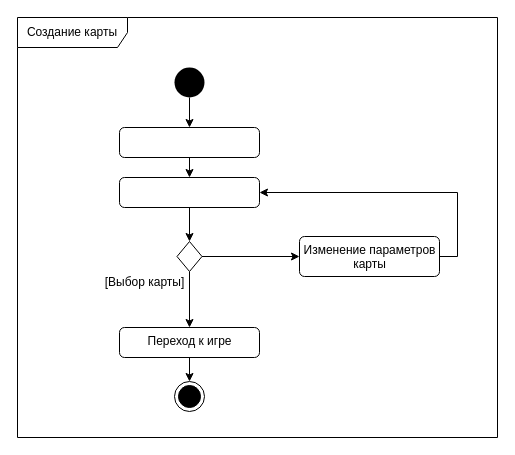
This 515x455 diagram has some shape labels left out. The shapes that lost their labels are listed below. From the top down, each one's centre as x and y in pixels, then its label:
point 189,142: Нажатие на "Create map"
point 189,192: Генерация карты
